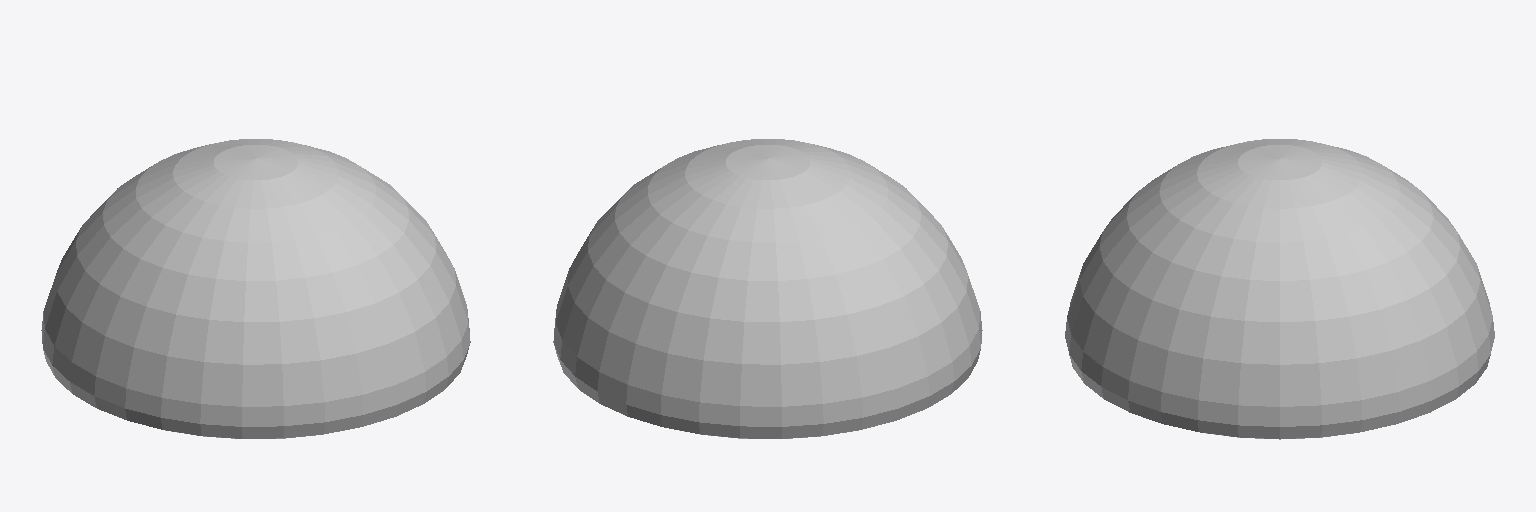
File: head.obj
3 views of the same model, side by side, from view 1: azimuth 30°, elevation 25°; view 2: azimuth 150°, elevation 25°; view 3: azimuth 270°, elevation 25° (orthographic).
Parts seen in each view (by area): view 1: Sphere.001; view 2: Sphere.001; view 3: Sphere.001.
Boxes of the visible parts, x1,y1,x2,y2 form: Sphere.001: [41, 139, 470, 438]; Sphere.001: [553, 139, 982, 438]; Sphere.001: [1065, 139, 1494, 439].
Bounding box in the file's own units: 1.13 × 0.5646 × 1.13.